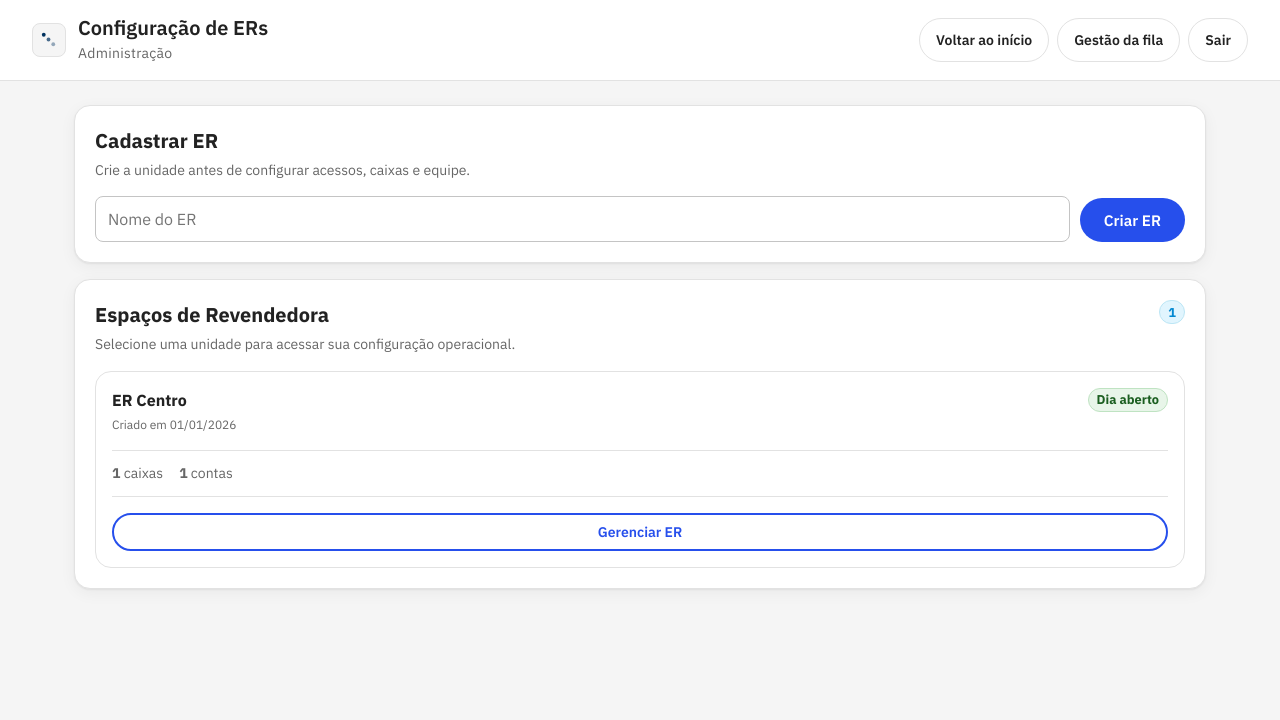
Test: AdminPage — ER management › opens the management panel with access links, counters and team
Click the button "Gerenciar ER".
click(640, 532)  # box x1=112 y1=513 x2=1168 y2=551
(page scrolled)
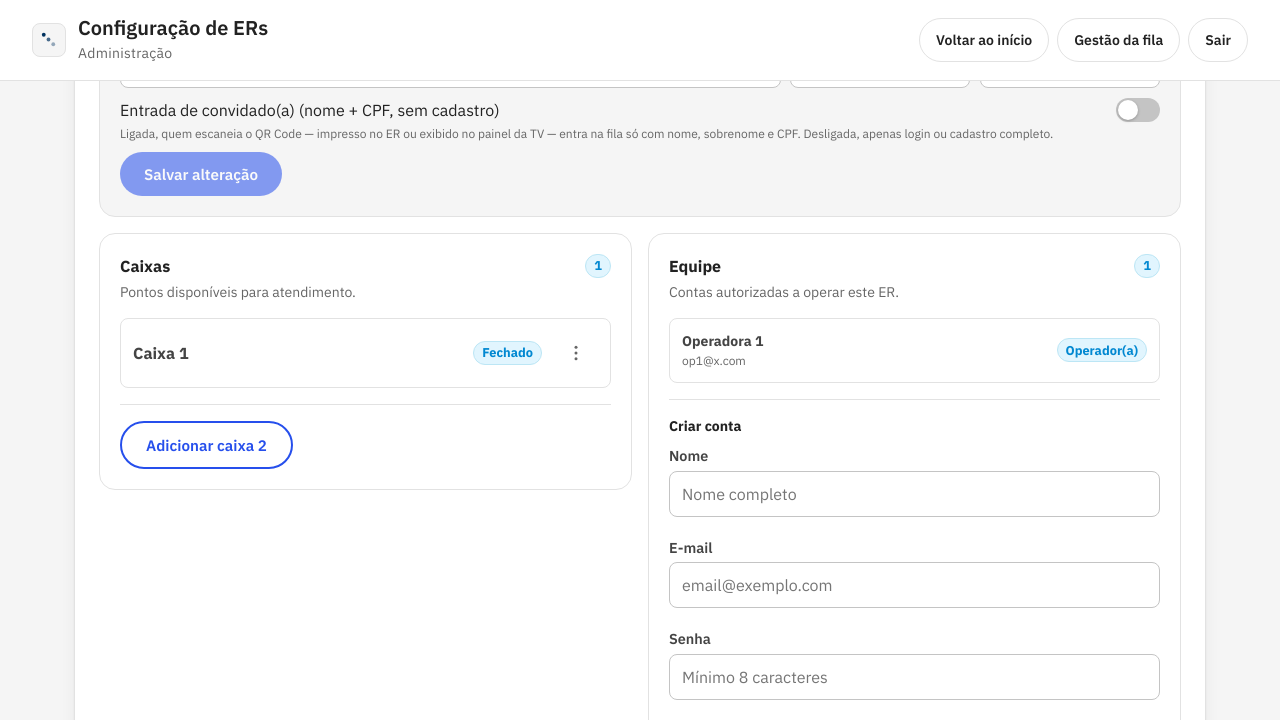
Result: the text "Caixa 1" is shown at x1=133 y1=341 x2=188 y2=365
Result: the text "op1@x.com" is shown at x1=682 y1=353 x2=746 y2=368
